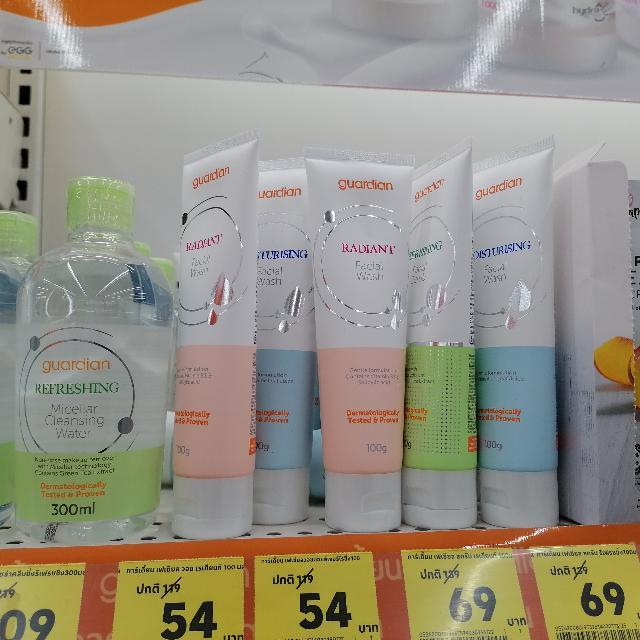Squeeze Tube: (4, 167, 182, 543), (292, 127, 418, 525), (472, 150, 582, 528), (173, 140, 253, 537), (564, 127, 640, 536), (256, 136, 330, 534), (411, 134, 478, 528)
